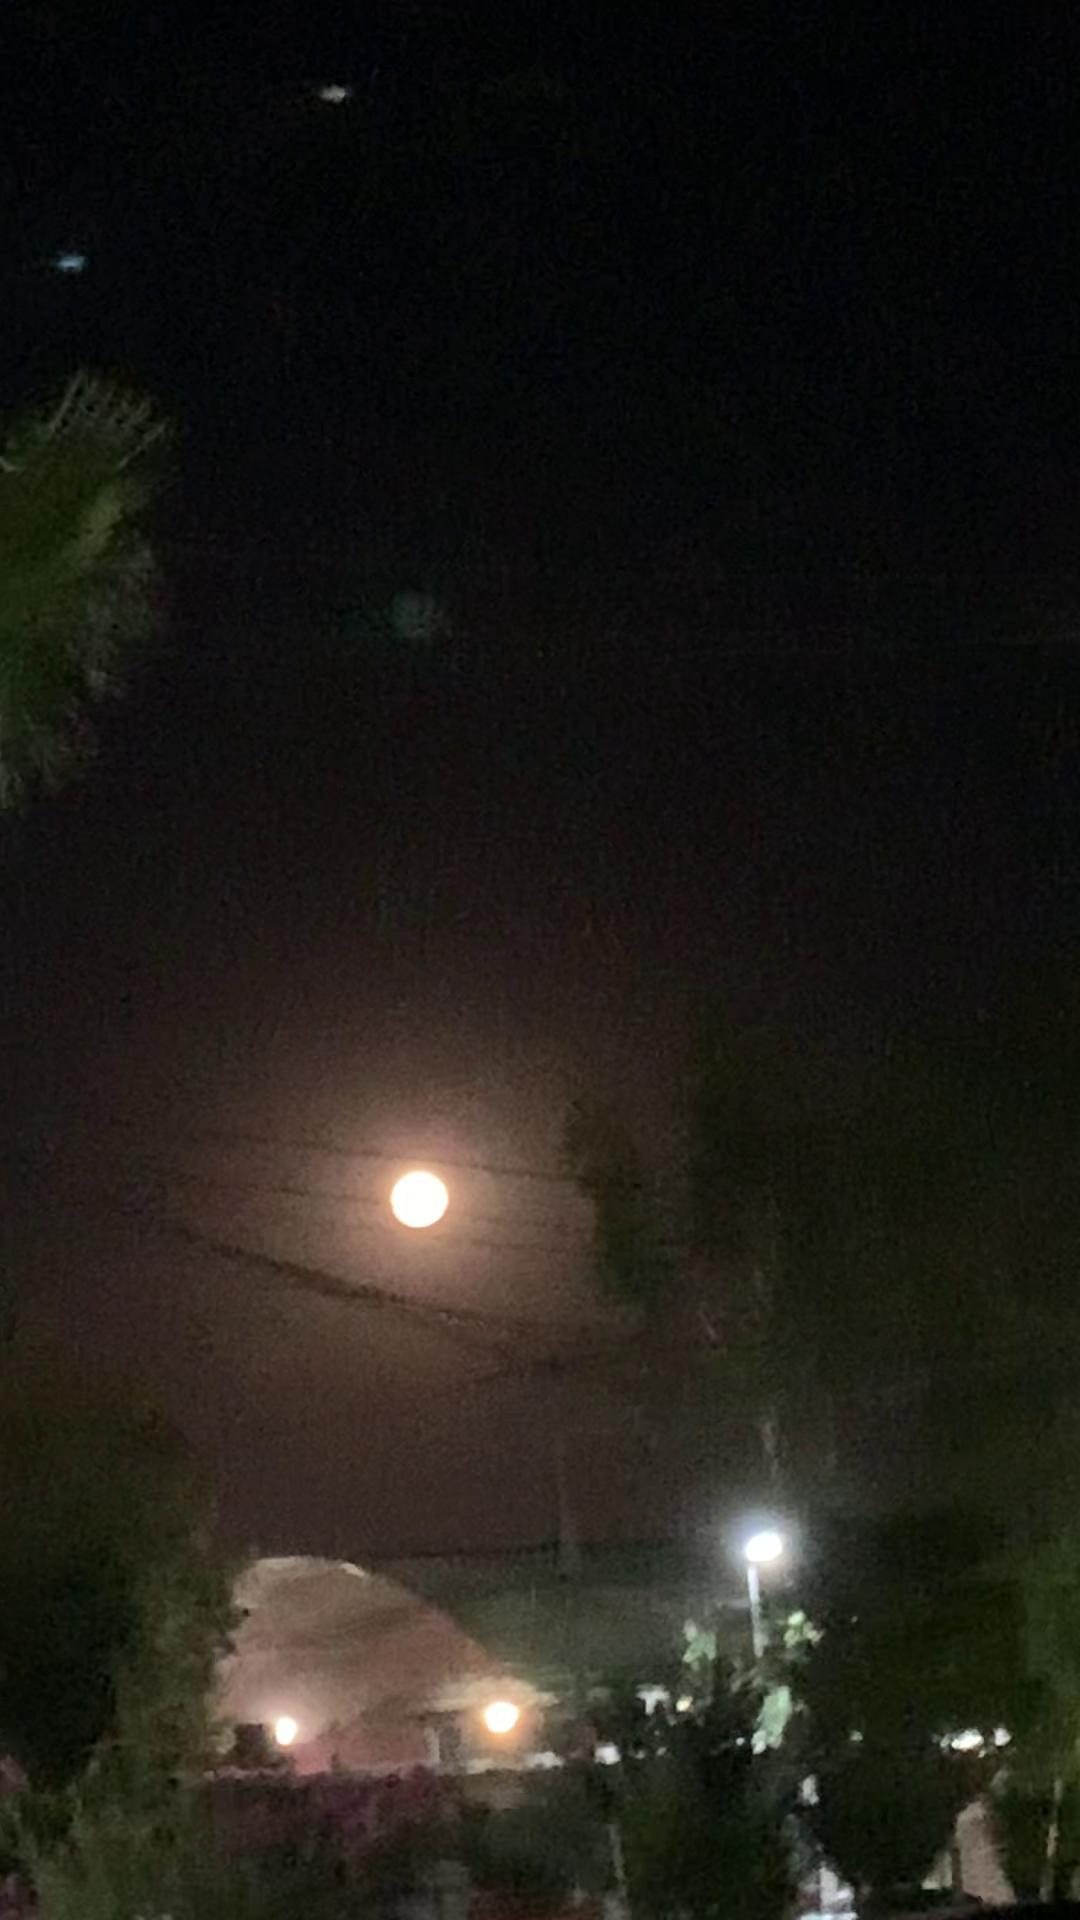moon: (371, 1154, 479, 1249)
